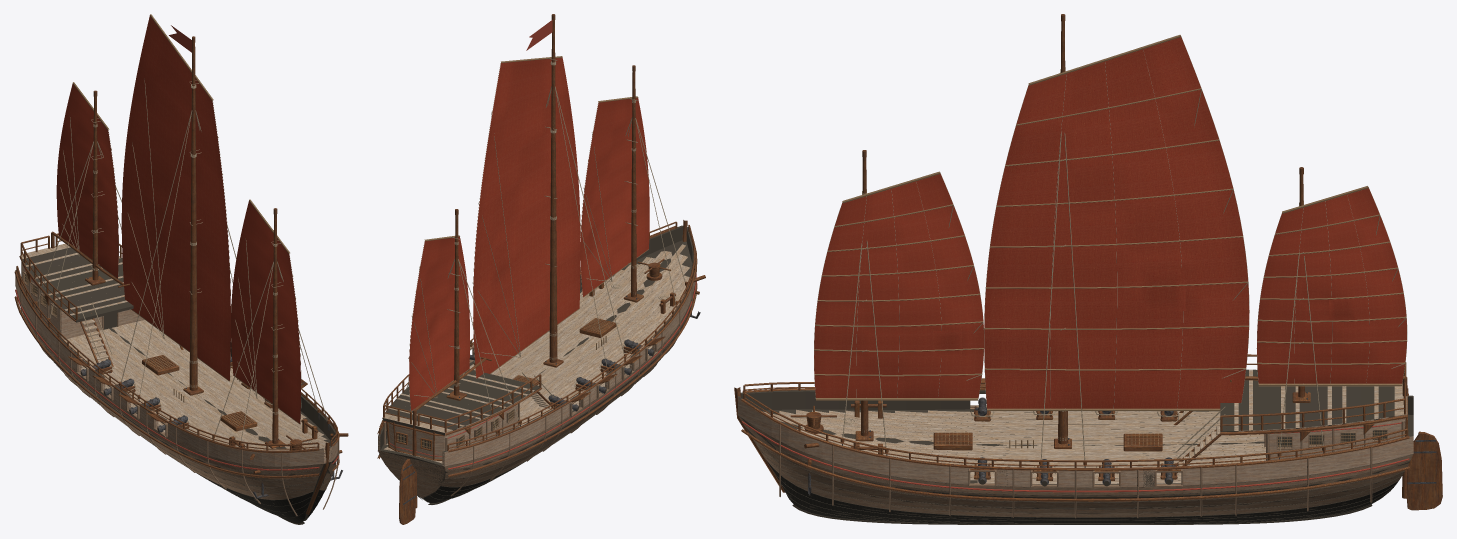
The model's file is fuchuan-lod1.glb.
The picture shows the model from 3 angles, left to right: view 1: azimuth 30°, elevation 25°; view 2: azimuth 150°, elevation 25°; view 3: azimuth 270°, elevation 25°; orthographic projection. The views are drawn at different scales.
Parts seen in each view (by area): view 1: sail_1, hull, deck, sail_0, sail_2, shadow_deck, deck_fittings, bulwark_rails, mast_timber_1, shadow_hull, sterncastle, mast_timber_0 (+6 smaller); view 2: sail_1, deck, hull, sail_0, sail_2, shadow_deck, deck_fittings, shadow_hull, bulwark_rails, mast_timber_1, mast_timber_0, stern_transom (+7 smaller); view 3: sail_1, hull, sail_0, sail_2, deck, shadow_hull, shadow_deck, bulwark_rails, deck_fittings, rudder_blade, sterncastle, rigging_1.
Boxes of the visible parts, left/top/right/bottom form: sail_1: left=121, top=14, right=231, bottom=381; hull: left=14, top=270, right=339, bottom=524; deck: left=19, top=243, right=329, bottom=450; sail_0: left=231, top=199, right=301, bottom=424; sail_2: left=56, top=82, right=118, bottom=278; shadow_deck: left=22, top=247, right=133, bottom=322; deck_fittings: left=21, top=262, right=348, bottom=498; bulwark_rails: left=16, top=233, right=337, bottom=450; mast_timber_1: left=189, top=43, right=197, bottom=390; shadow_hull: left=15, top=270, right=335, bottom=521; sterncastle: left=23, top=266, right=144, bottom=339; mast_timber_0: left=272, top=214, right=278, bottom=443; sail_1: left=472, top=56, right=580, bottom=378; deck: left=382, top=244, right=689, bottom=463; hull: left=377, top=220, right=697, bottom=504; sail_0: left=580, top=96, right=649, bottom=297; sail_2: left=408, top=235, right=469, bottom=411; shadow_deck: left=383, top=369, right=540, bottom=435; deck_fittings: left=383, top=259, right=705, bottom=460; shadow_hull: left=378, top=225, right=693, bottom=502; bulwark_rails: left=379, top=221, right=695, bottom=450; mast_timber_1: left=549, top=20, right=557, bottom=362; mast_timber_0: left=631, top=71, right=636, bottom=297; stern_transom: left=388, top=423, right=444, bottom=459; sail_1: left=984, top=35, right=1249, bottom=411; hull: left=734, top=387, right=1413, bottom=524; sail_0: left=814, top=171, right=984, bottom=400; sail_2: left=1256, top=186, right=1407, bottom=386; deck: left=763, top=369, right=1407, bottom=483; shadow_hull: left=738, top=390, right=1413, bottom=523; shadow_deck: left=1220, top=369, right=1394, bottom=432; bulwark_rails: left=743, top=354, right=1408, bottom=467; deck_fittings: left=790, top=385, right=1407, bottom=494; rudder_blade: left=1406, top=431, right=1442, bottom=510; sterncastle: left=1266, top=418, right=1404, bottom=460; rigging_1: left=1039, top=133, right=1086, bottom=473.
Size of the model in its own units: 10.4 by 26.66 by 33.57.
13 materials, 8 textured.
